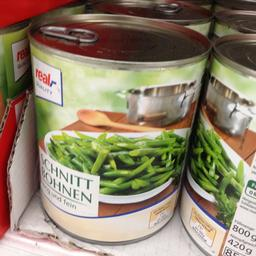beans: (28, 12, 212, 252), (182, 32, 254, 255)
